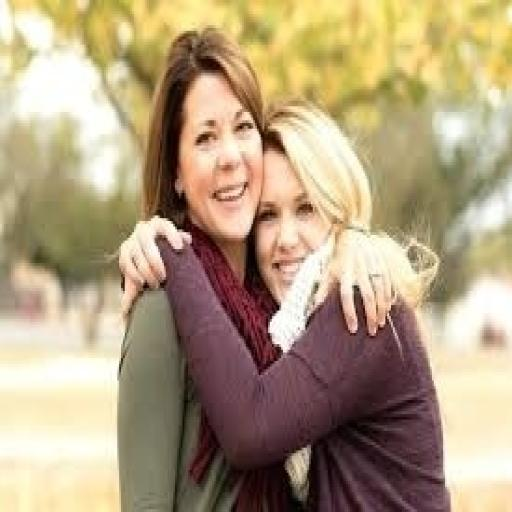hugging: (116, 25, 452, 509)
